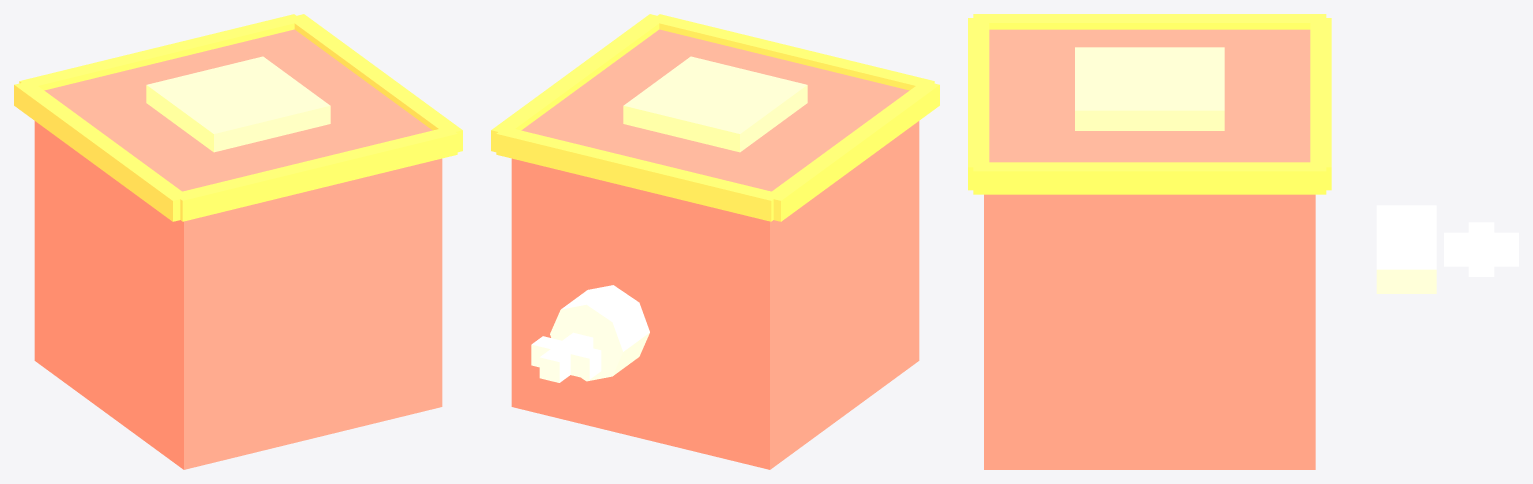
Rendered from interact_enemy_cube.glb.
The picture shows the model from 3 angles, left to right: view 1: azimuth 30°, elevation 25°; view 2: azimuth 150°, elevation 25°; view 3: azimuth 270°, elevation 25°; orthographic projection. The views are drawn at different scales.
Parts seen in each view (by area): view 1: interact_enemy_cube; view 2: interact_enemy_cube; view 3: interact_enemy_cube.
Boxes of the visible parts, <box> form: interact_enemy_cube: <box>14,14,462,469</box>; interact_enemy_cube: <box>491,14,939,469</box>; interact_enemy_cube: <box>968,14,1518,469</box>.
Size of the model in its own units: 1.74 by 1.65 by 2.58.
